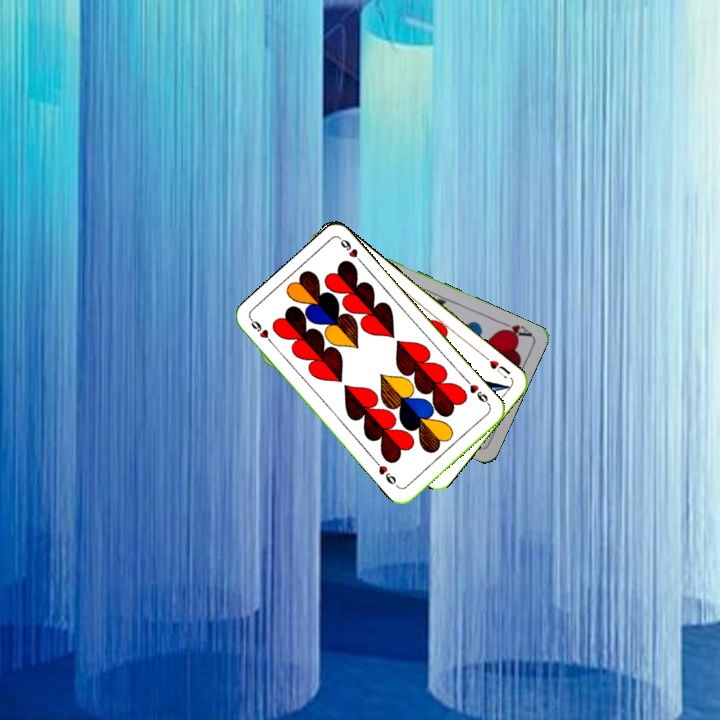H9: (462, 375, 493, 409), (247, 315, 278, 349)
HA: (495, 316, 534, 341)
HU: (485, 356, 513, 381)
